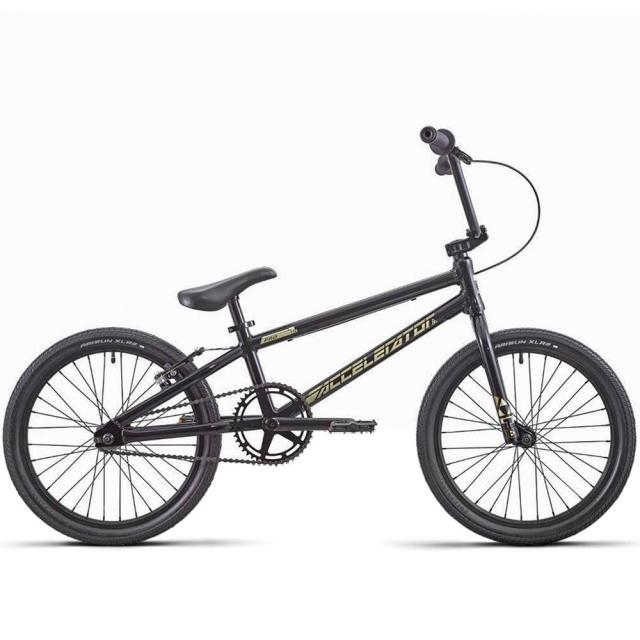bmx-bike: (8, 124, 638, 546)
